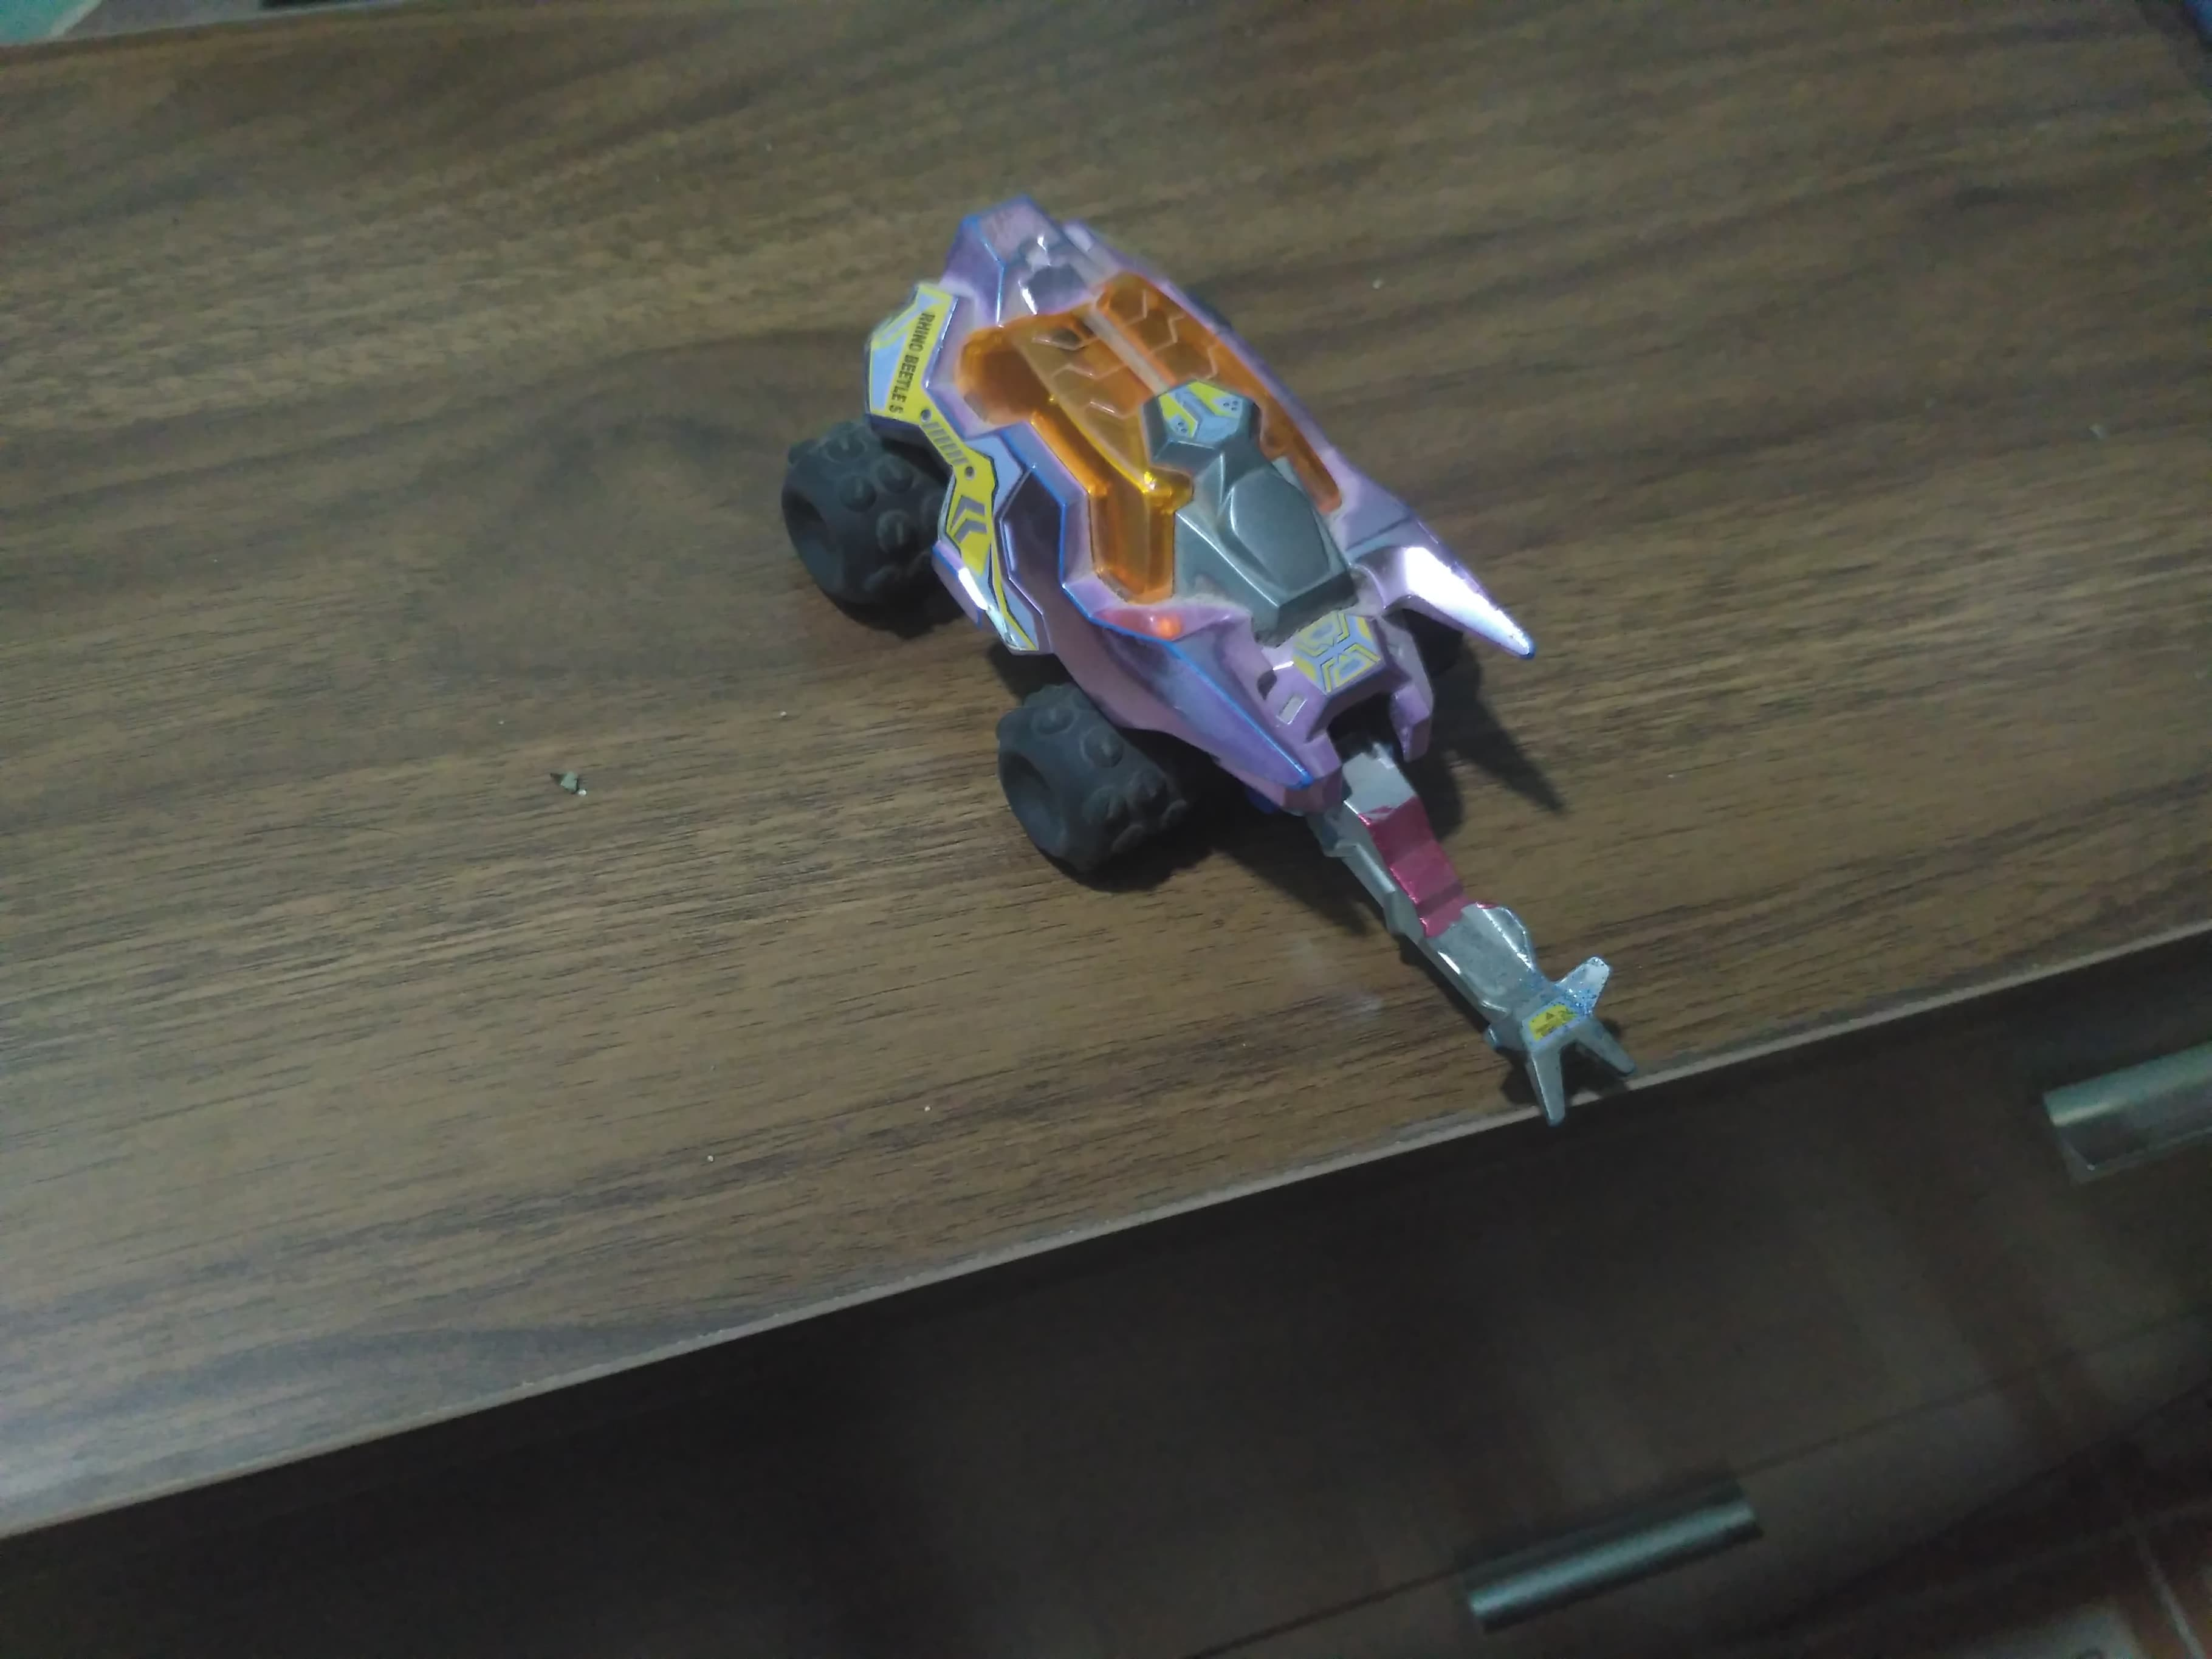rhino: (775, 188, 1655, 1138)
